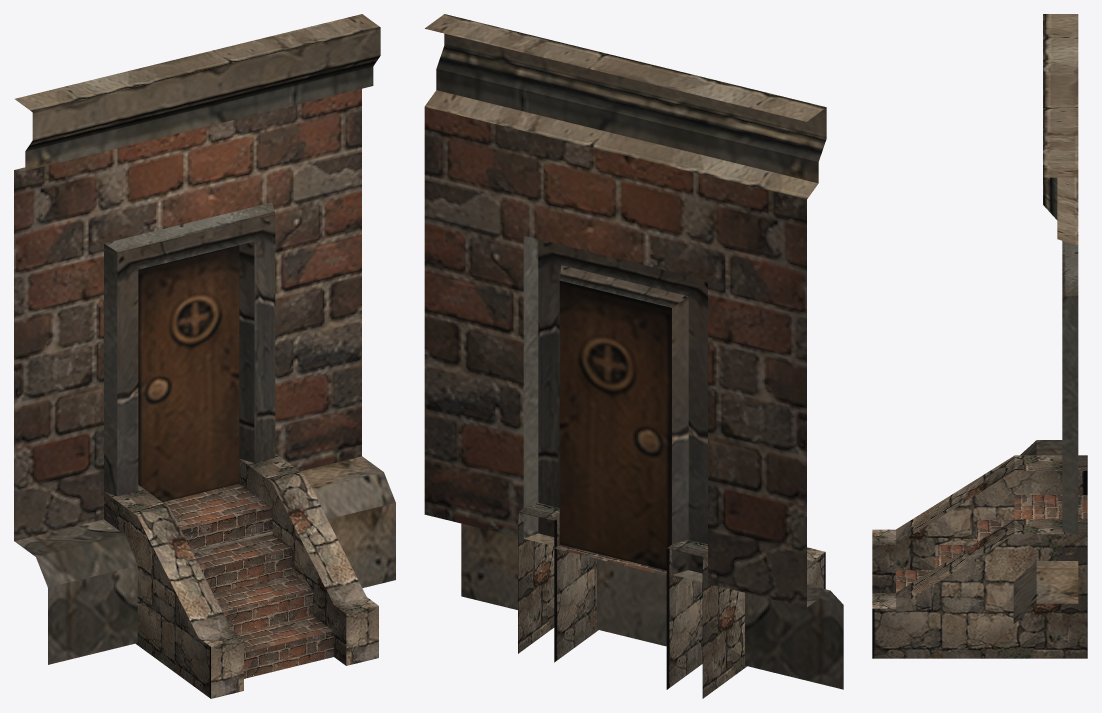
File: wall_brick_4.fbx
3 views of the same model, side by side, from view 1: azimuth 30°, elevation 25°; view 2: azimuth 150°, elevation 25°; view 3: azimuth 270°, elevation 25° (orthographic). The views are drawn at different scales.
Parts seen in each view (by area): view 1: wall_brick_4; view 2: wall_brick_4; view 3: wall_brick_4.
Boxes of the visible parts, x1,y1,x2,y2 form: wall_brick_4: (14,14,395,698); wall_brick_4: (424,14,843,698); wall_brick_4: (872,14,1087,658).
Bounding box in the file's own units: 3 × 4.48 × 1.67.
